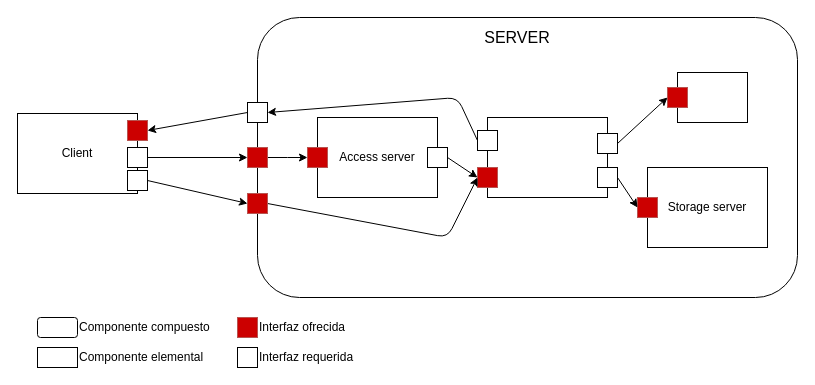
This 815x385 diagram has some shape labels left out. Here are the shapes that lost their labels. From the top down, the box of each, then its label:
(676, 72, 748, 122): Avatar
(486, 116, 608, 198): Geographical server
